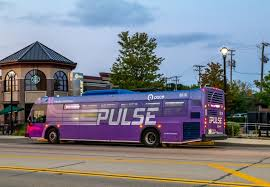bus: (25, 85, 226, 148)
